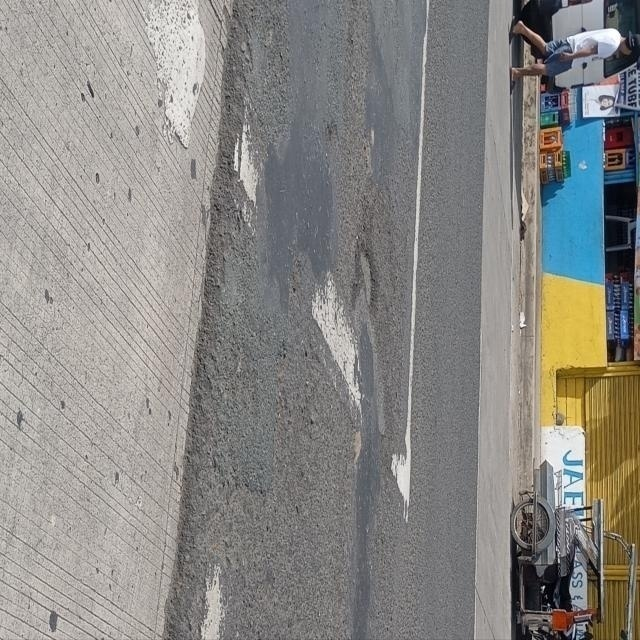pothole: (314, 200, 404, 340)
